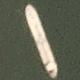ship: (0, 0, 6, 40)
